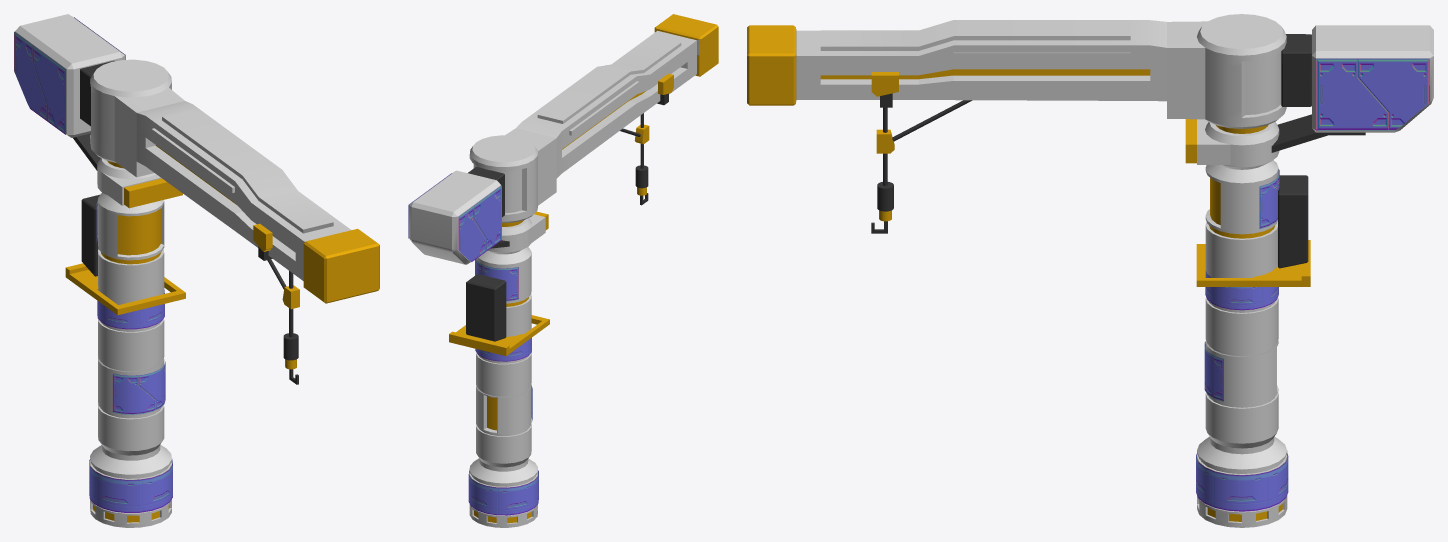
The model's file is S_Grue.fbx.
3 renders of one model, left to right at view 1: azimuth 30°, elevation 25°; view 2: azimuth 150°, elevation 25°; view 3: azimuth 270°, elevation 25°, orthographic. The views are drawn at different scales.
Visible parts, largest first — view 1: GRUE; view 2: GRUE; view 3: GRUE.
Part boxes in pixels (bbox=[...]): GRUE: bbox=[14, 14, 379, 527]; GRUE: bbox=[408, 14, 718, 527]; GRUE: bbox=[747, 14, 1433, 527].
Size of what is drawn, in the model's own units: 409 by 2340 by 3045.
